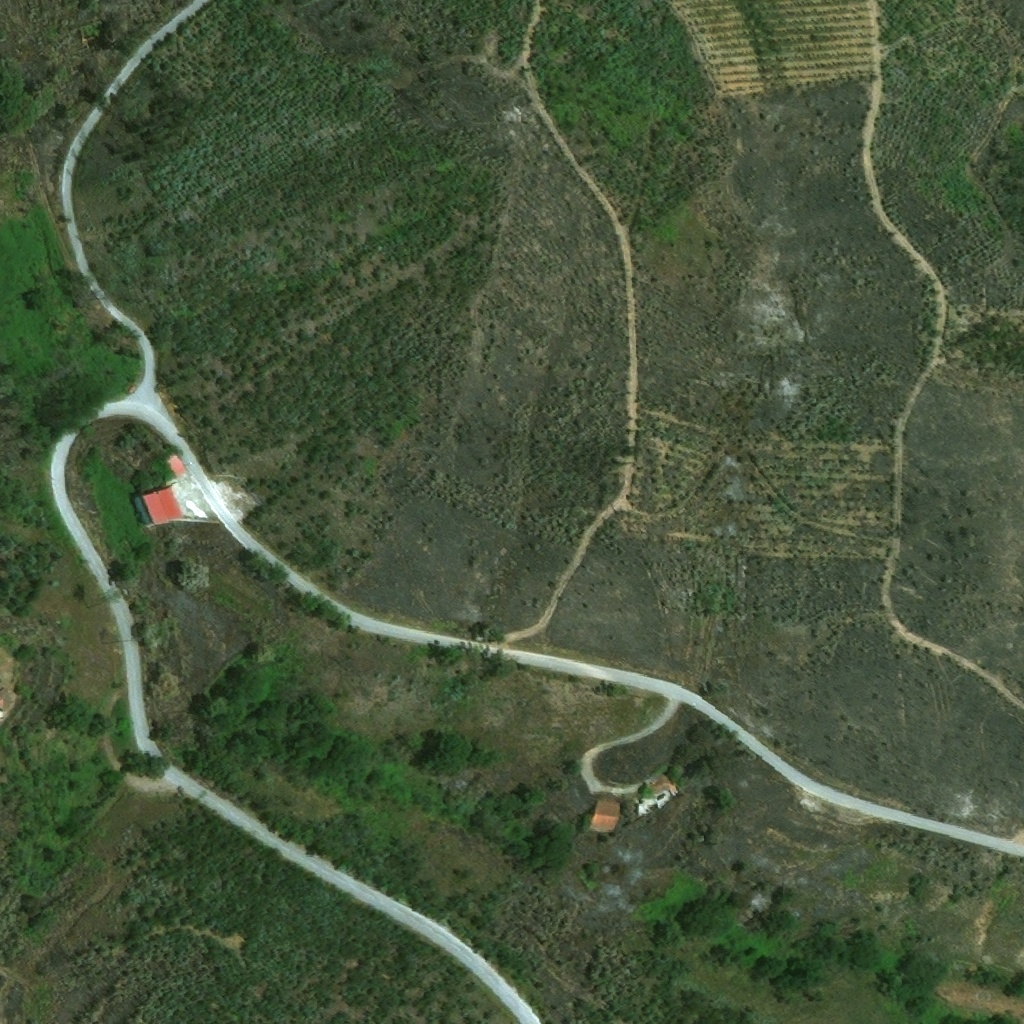0 no-damage: (142, 486, 183, 524), (590, 802, 619, 829), (163, 451, 187, 477)
2 major-damage: (635, 787, 672, 815)
4 un-classified: (0, 689, 9, 710)
